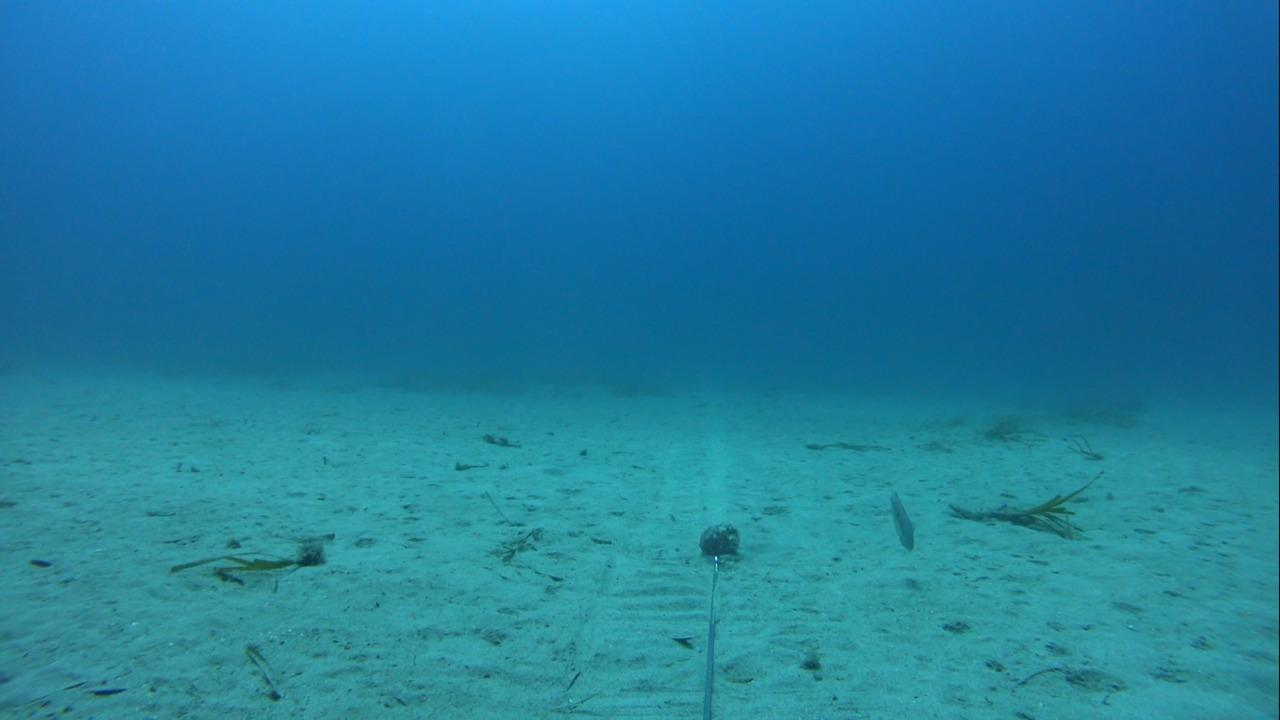raor: (875, 477, 919, 553)
